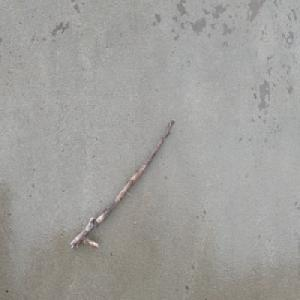Wood: (69, 117, 176, 251)
